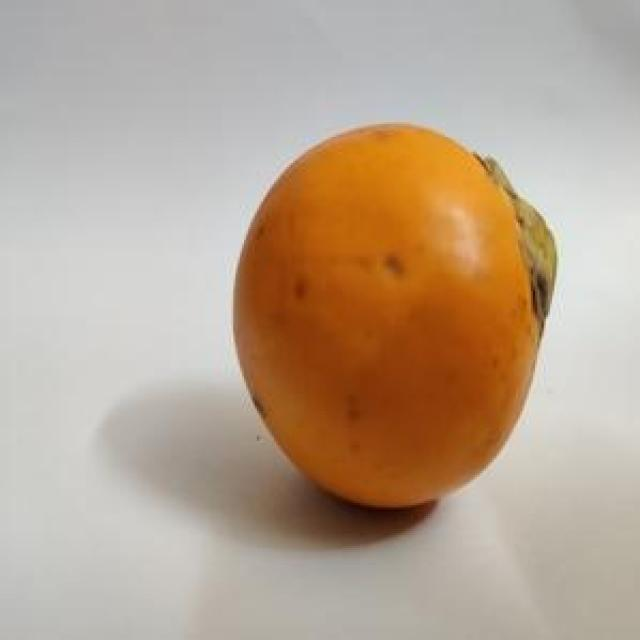good: (231, 124, 559, 512)
